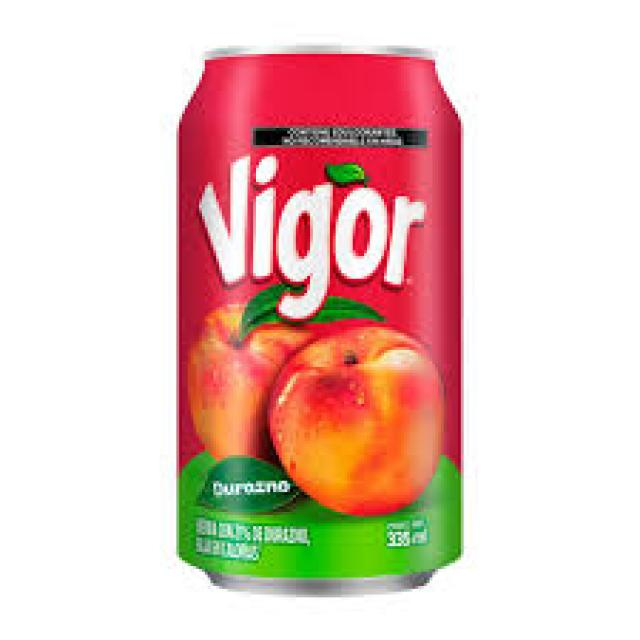Lata: (177, 45, 460, 599)
